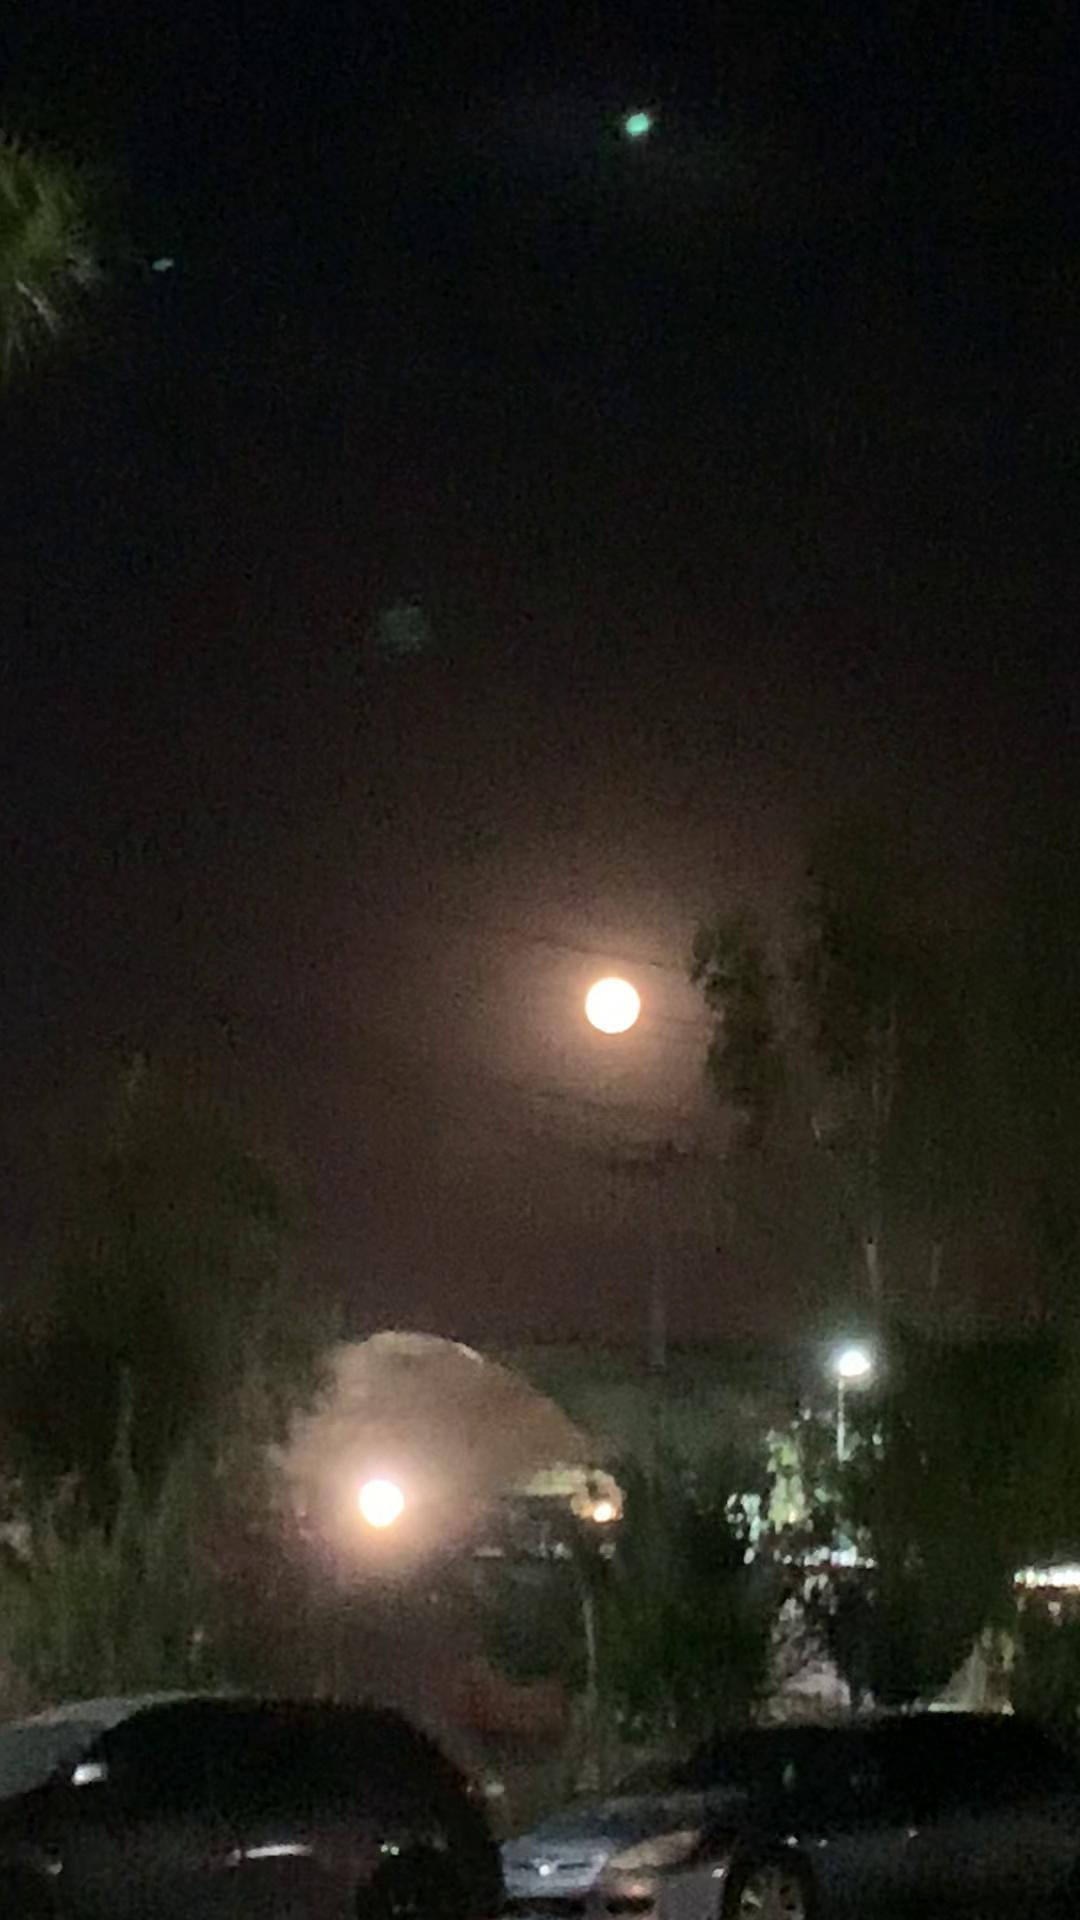moon: (579, 981, 650, 1052)
